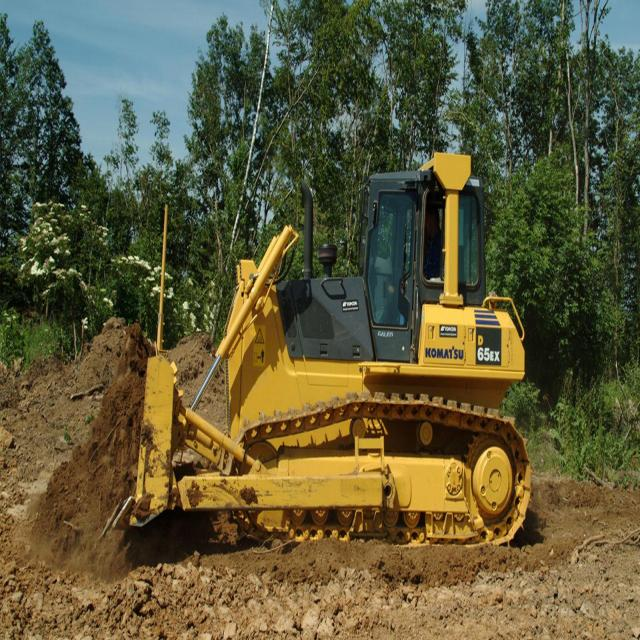Bulldozer: (99, 120, 539, 578)
